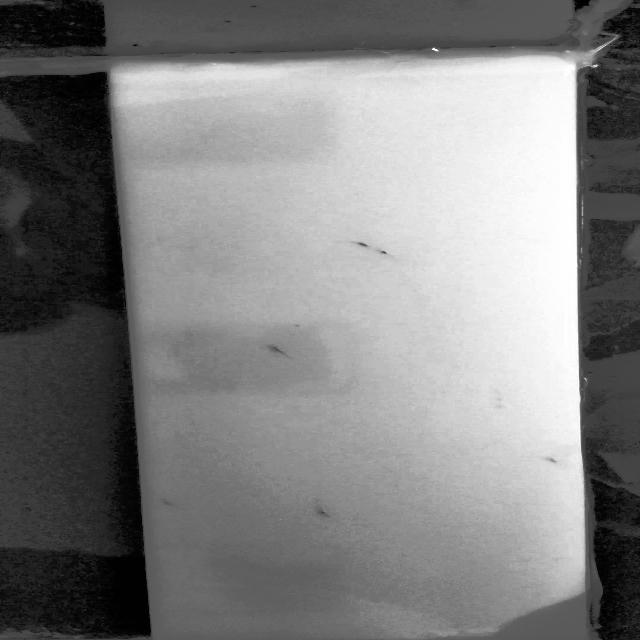shrimp: (146, 494, 184, 512), (308, 499, 333, 521), (266, 342, 297, 359), (347, 235, 371, 248), (373, 247, 404, 256), (534, 456, 561, 462)
